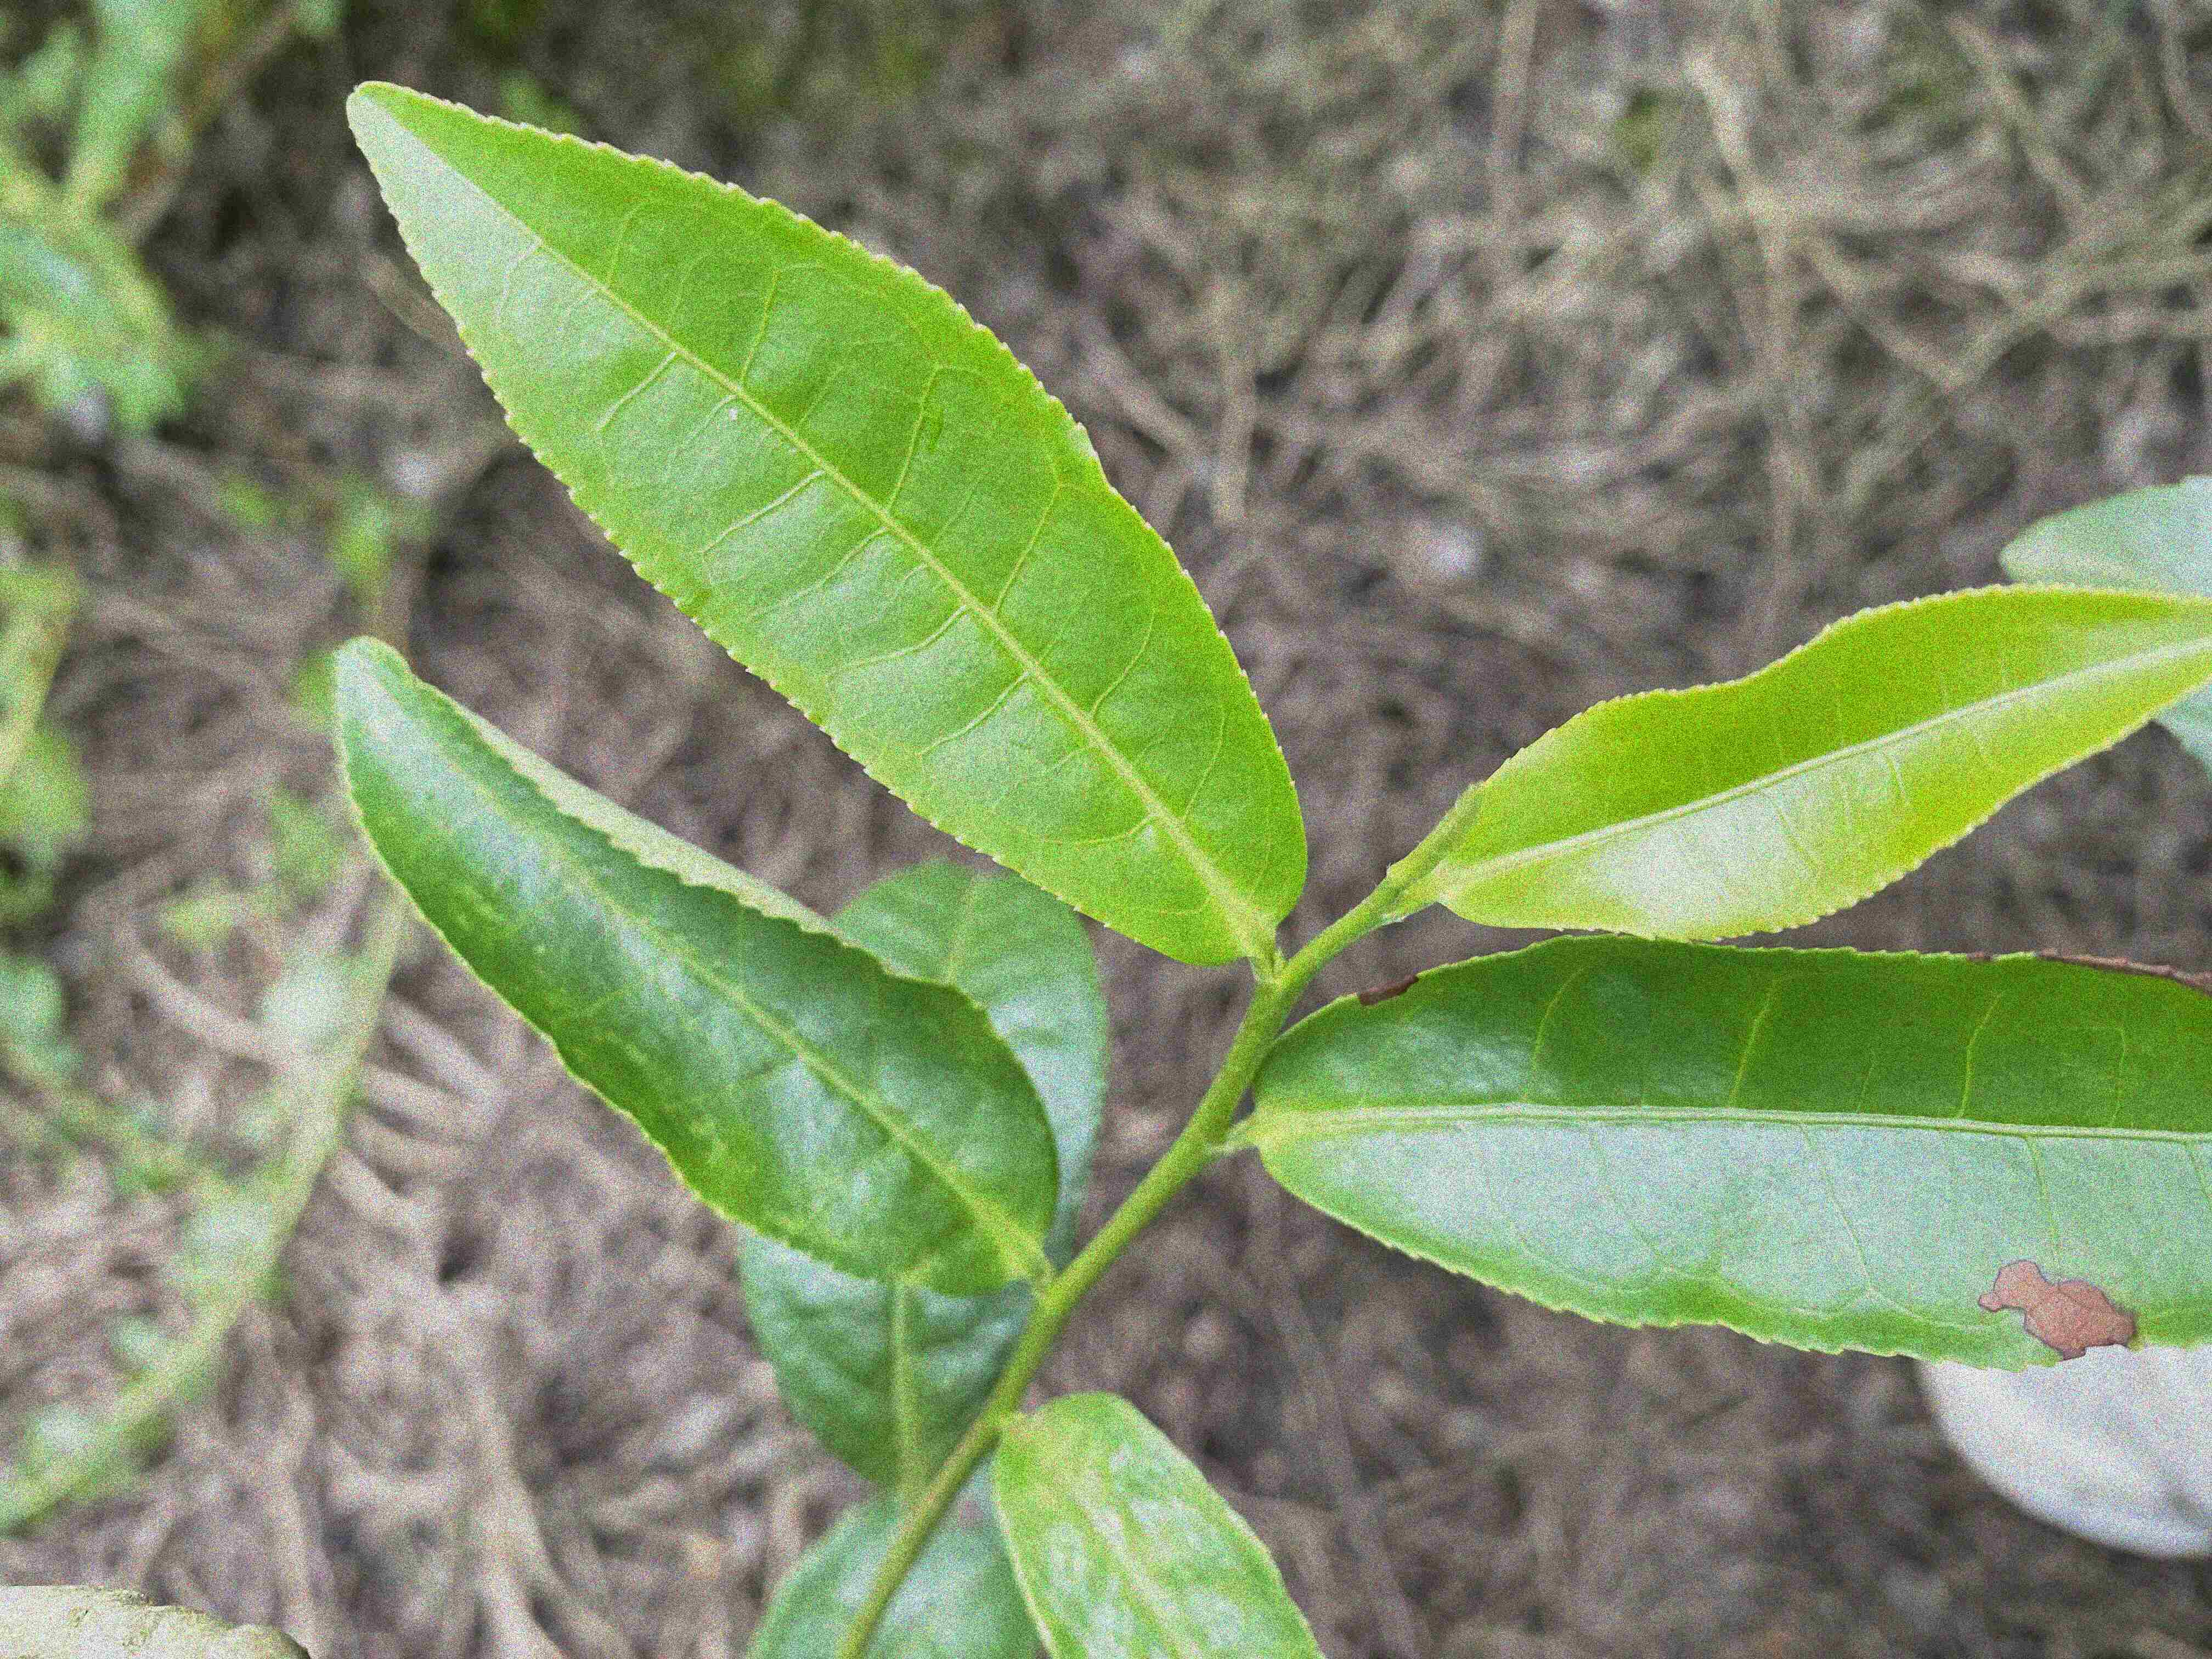healthy: (341, 78, 1310, 967), (326, 631, 1062, 1300), (1425, 587, 2210, 945)
tanju_high: (1252, 932, 2212, 1375)
